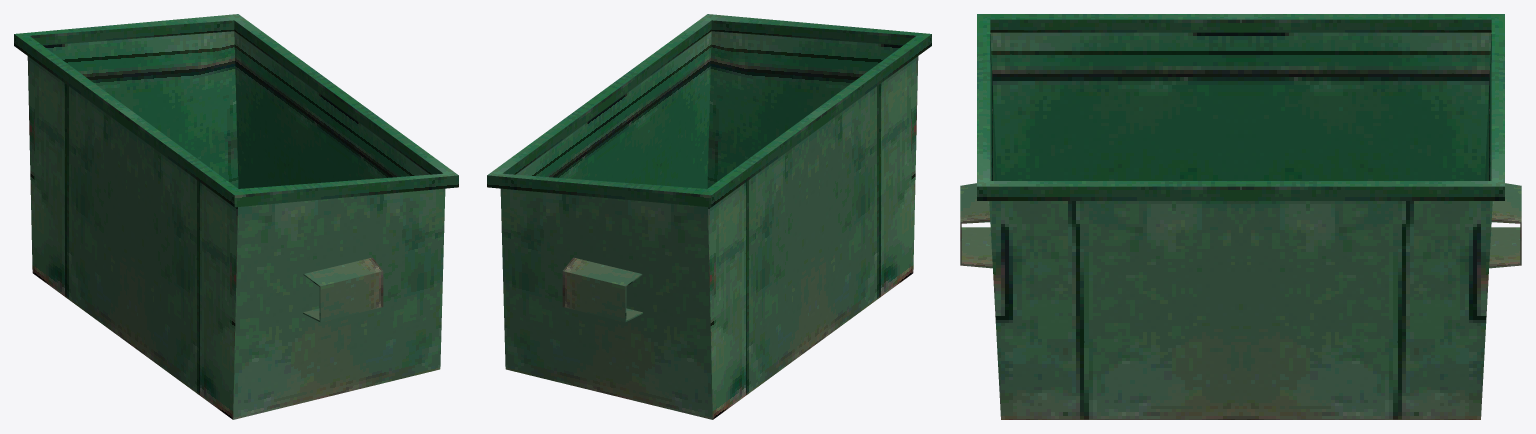
Rendered from dumpster_diagonal_empty_no_lid.glb.
3 renders of one model, left to right at view 1: azimuth 30°, elevation 25°; view 2: azimuth 150°, elevation 25°; view 3: azimuth 270°, elevation 25°, orthographic. The views are drawn at different scales.
Parts seen in each view (by area): view 1: dumpster_diagonal_empty_no_lid; view 2: dumpster_diagonal_empty_no_lid; view 3: dumpster_diagonal_empty_no_lid.
Boxes of the visible parts, x1,y1,x2,y2 form: dumpster_diagonal_empty_no_lid: (14, 14, 458, 419); dumpster_diagonal_empty_no_lid: (487, 14, 931, 419); dumpster_diagonal_empty_no_lid: (960, 14, 1521, 419).
Bounding box in the file's own units: 2.03 × 2.02 × 3.67.
Materials: 1 (1 with a texture image).
